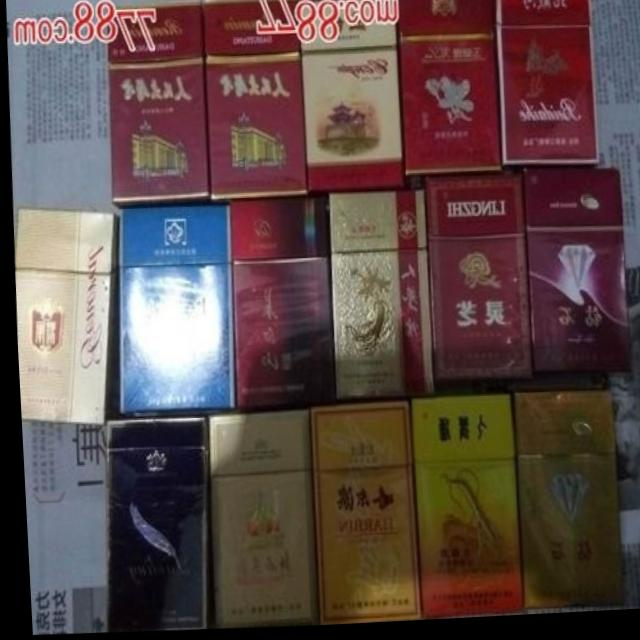box: (406, 398, 516, 622), (507, 396, 619, 614), (115, 207, 230, 414), (307, 406, 413, 628), (11, 209, 116, 427), (204, 412, 308, 629), (100, 420, 206, 631), (227, 200, 330, 410), (521, 171, 626, 377), (327, 192, 429, 402), (425, 181, 526, 384), (107, 2, 207, 205), (296, 0, 399, 197), (202, 0, 302, 201), (395, 0, 499, 179), (495, 0, 599, 171)
